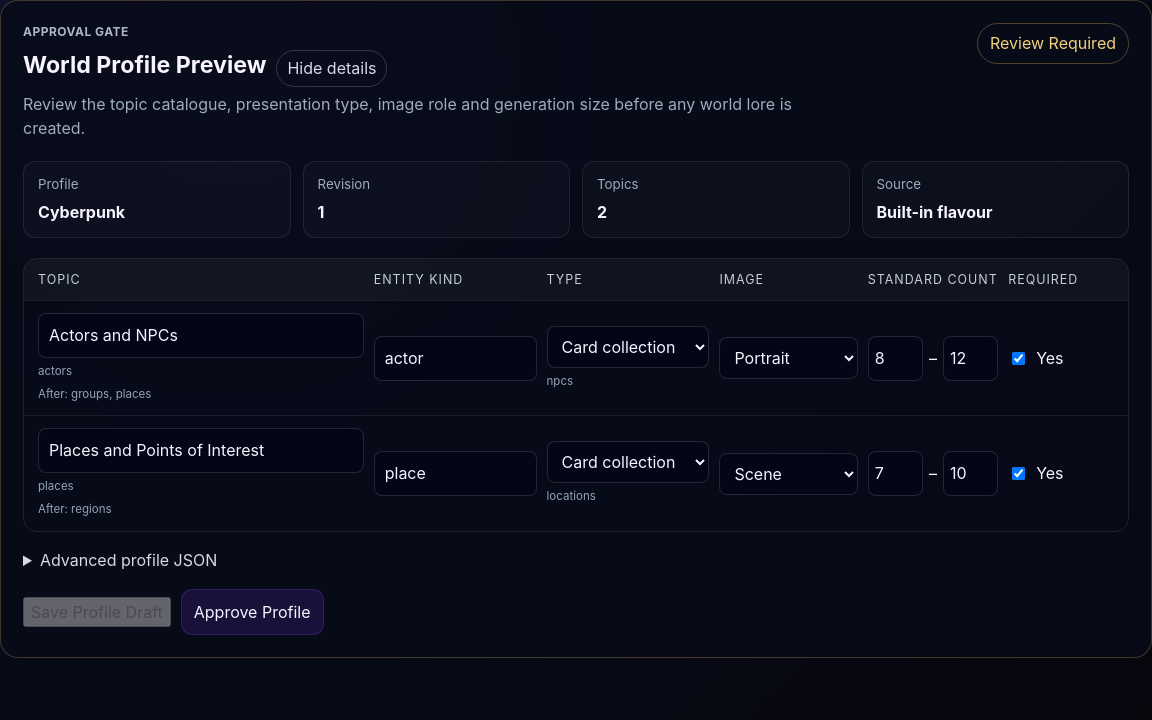
Test: RpgWorldProfilePreview › saves an edited profile revision before approval
The image size is (1152, 720).
Replace the text in the field named "Title for actors" with "Operatives and NPCs" at {"x": 201, "y": 335}, box x1=38 y1=313 x2=364 y2=358
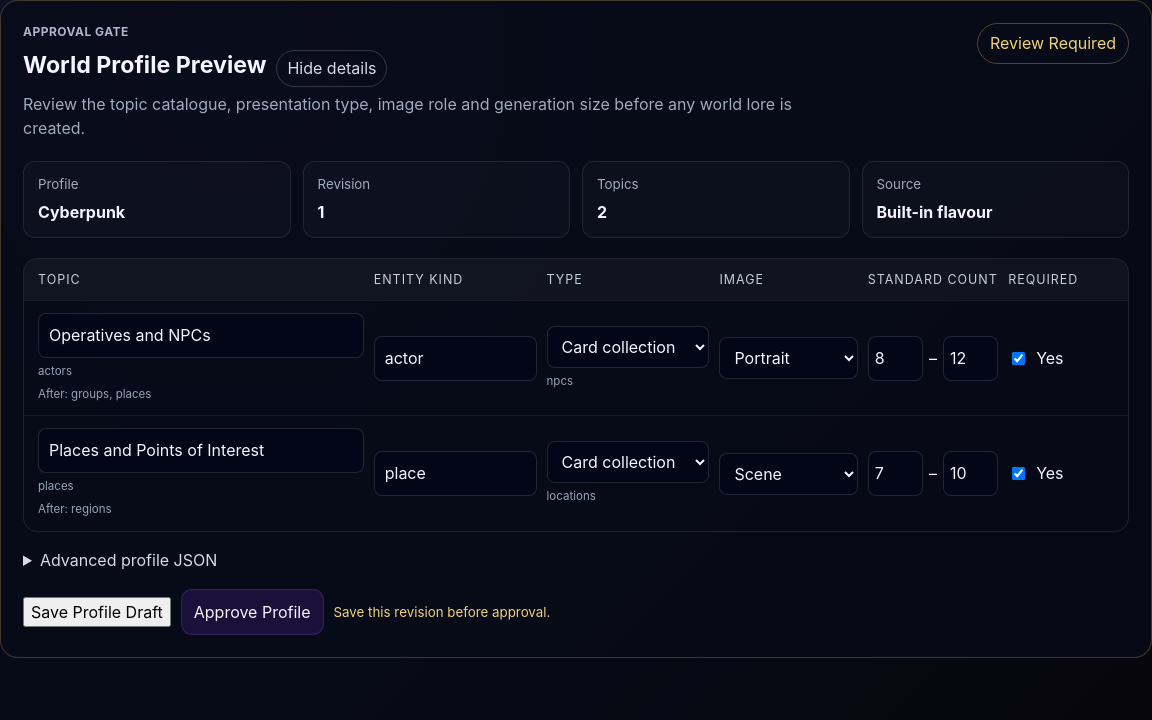
Click the button "Save Profile Draft" at {"x": 97, "y": 612}, box x1=23 y1=597 x2=171 y2=627
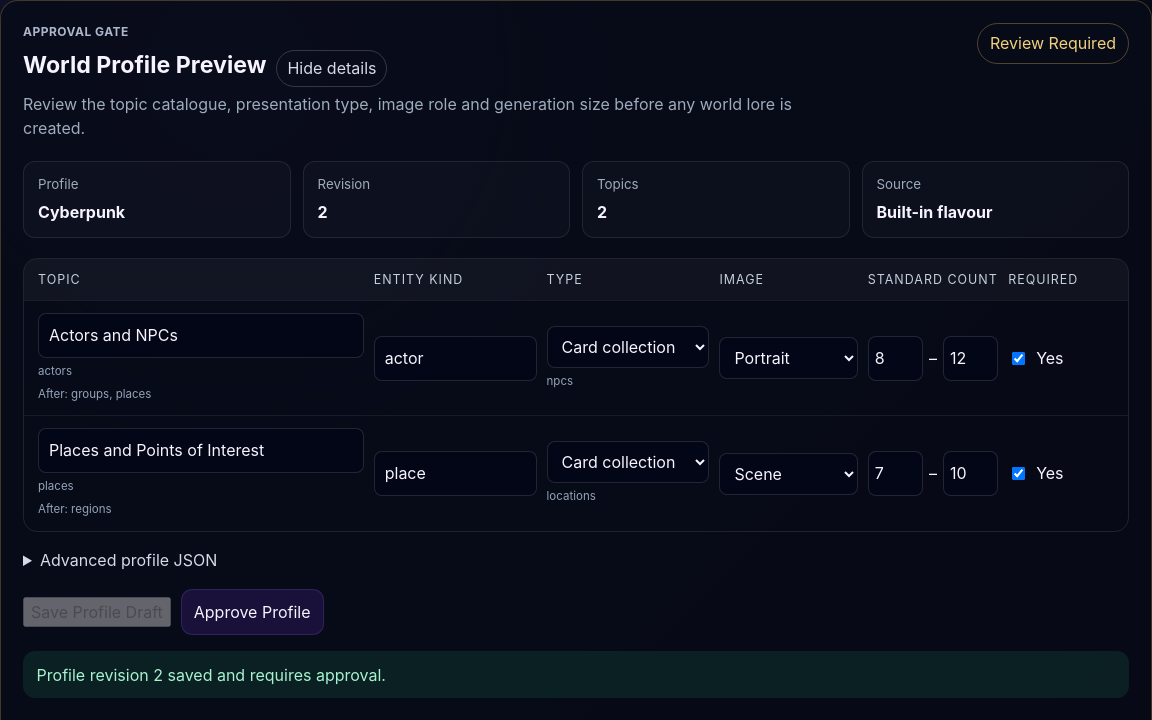
expect the text "Profile revision 2 saved and requires approval." is shown: met, box x1=23 y1=651 x2=1129 y2=698
